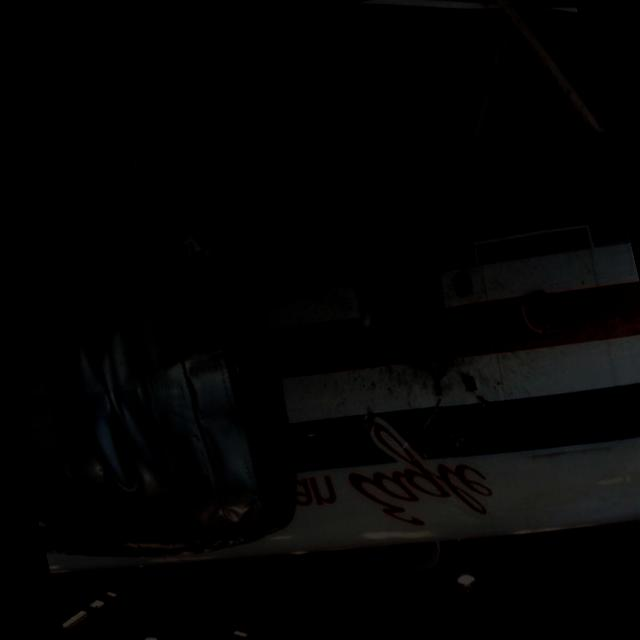dent: (66, 287, 210, 495)
